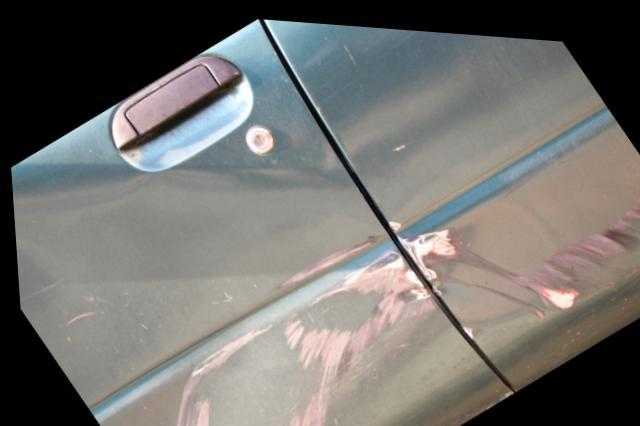dent: (9, 163, 408, 426)
scratch: (382, 188, 640, 311)
